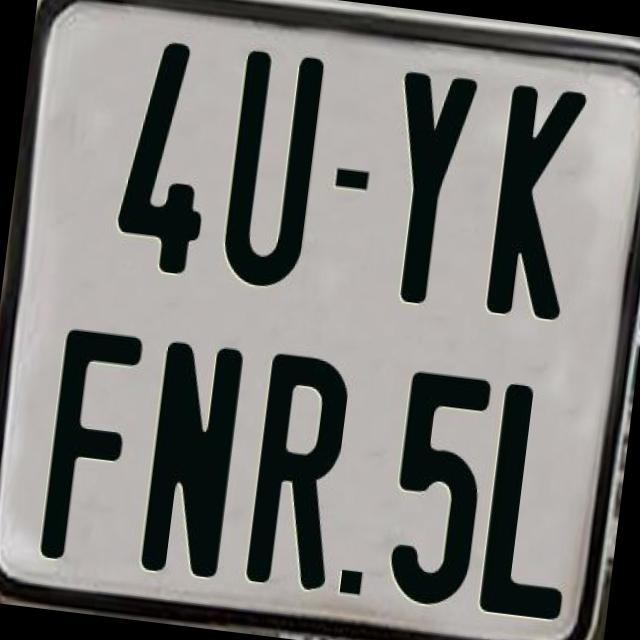4: (112, 35, 222, 272)
5: (381, 366, 495, 612)
F: (36, 328, 146, 568)
K: (485, 85, 595, 322)
L: (478, 378, 594, 624)
N: (138, 335, 245, 578)
R: (241, 348, 350, 590)
U: (218, 46, 326, 292)
Y: (374, 66, 482, 312)
